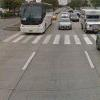Bus: (18, 1, 55, 36)
